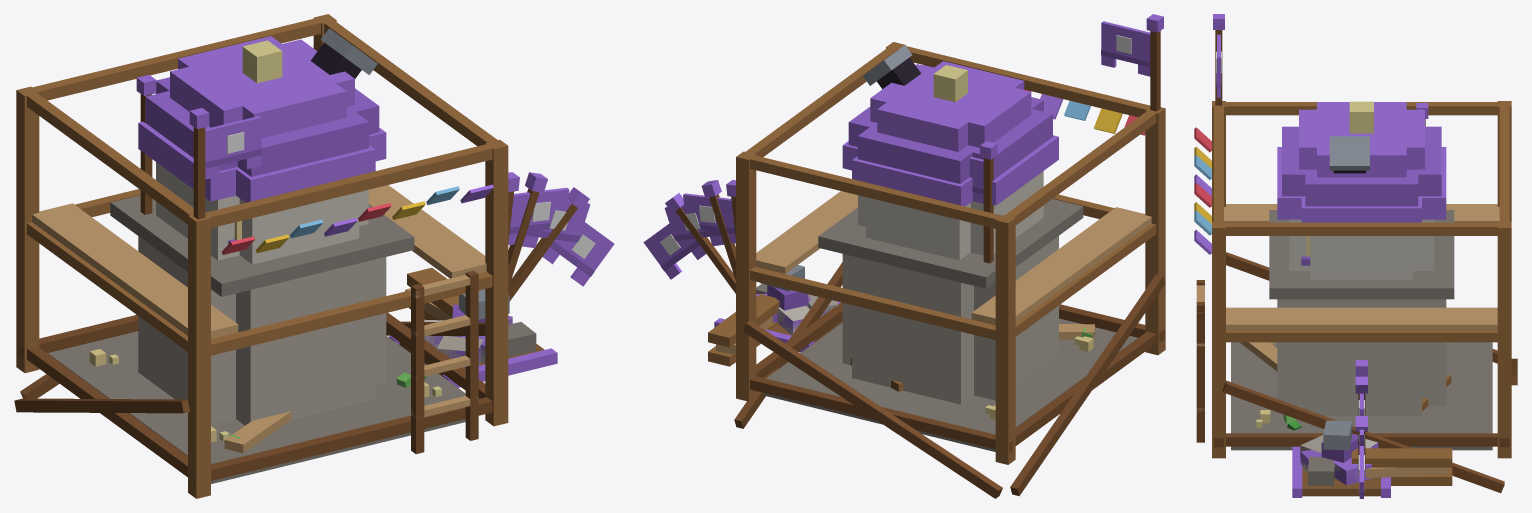
The model's file is moth-research.glb.
The picture shows the model from 3 angles, left to right: view 1: azimuth 30°, elevation 25°; view 2: azimuth 150°, elevation 25°; view 3: azimuth 270°, elevation 25°; orthographic projection. The views are drawn at different scales.
Visible parts, largest first — view 1: scaffold-mesh, built-mesh, dismantle-75-mesh, dismantle-50-mesh, scaffold-banner, dismantle-25-mesh, dismantle-25-banner, dismantle-75-banner, scaffold-flag-pole, dismantle-25-flag-pole, dismantle-50-banner, dismantle-50-flag-pole (+1 smaller); view 2: scaffold-mesh, built-mesh, dismantle-75-mesh, dismantle-50-mesh, scaffold-banner, dismantle-25-banner, dismantle-75-banner, dismantle-25-mesh, flag-pole, dismantle-50-banner, scaffold-flag-pole, dismantle-25-flag-pole (+2 smaller); view 3: scaffold-mesh, built-mesh, dismantle-75-mesh, dismantle-50-mesh, dismantle-25-mesh, scaffold-flag-pole.
Boxes of the visible parts, x1,y1,x2,y2 form: scaffold-mesh: [14, 14, 508, 498]; built-mesh: [138, 28, 426, 442]; dismantle-75-mesh: [48, 162, 557, 463]; dismantle-50-mesh: [90, 292, 557, 453]; scaffold-banner: [205, 116, 261, 179]; dismantle-25-mesh: [115, 289, 557, 452]; dismantle-25-banner: [542, 215, 614, 286]; dismantle-75-banner: [508, 187, 569, 244]; scaffold-flag-pole: [189, 108, 209, 219]; dismantle-25-flag-pole: [508, 187, 589, 301]; dismantle-50-banner: [522, 199, 590, 253]; dismantle-50-flag-pole: [508, 172, 547, 288]; scaffold-mesh: [708, 42, 1165, 498]; built-mesh: [818, 45, 1092, 404]; dismantle-75-mesh: [714, 171, 1137, 451]; dismantle-50-mesh: [714, 283, 1094, 450]; scaffold-banner: [1101, 21, 1150, 76]; dismantle-25-banner: [643, 216, 706, 279]; dismantle-75-banner: [683, 193, 735, 243]; dismantle-25-mesh: [714, 265, 1094, 451]; flag-pole: [980, 141, 997, 263]; dismantle-50-banner: [664, 202, 723, 250]; scaffold-flag-pole: [1146, 14, 1163, 111]; dismantle-25-flag-pole: [665, 193, 735, 293]; scaffold-mesh: [1194, 101, 1517, 493]; built-mesh: [1256, 101, 1454, 430]; dismantle-75-mesh: [1231, 210, 1492, 497]; dismantle-50-mesh: [1240, 342, 1390, 497]; dismantle-25-mesh: [1240, 342, 1451, 495]; scaffold-flag-pole: [1213, 14, 1224, 105].
Size of the model in its own units: 2.45 by 1.92 by 1.61.
